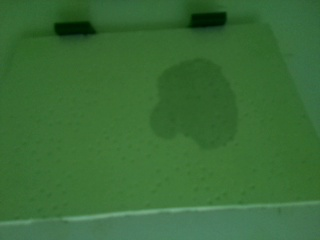Water_detected: (172, 76, 240, 137)
